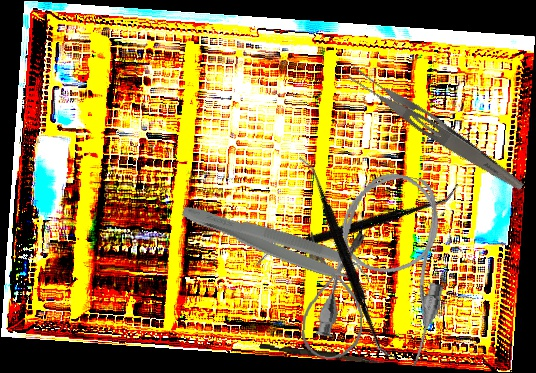Cannula: (313, 164, 465, 369), (300, 229, 369, 362)
Dressing Forceps: (343, 62, 530, 195)
Pusher: (258, 343, 386, 365)
Spatula Surgical: (235, 155, 460, 361), (253, 116, 461, 334)
Tissue Forceps: (176, 197, 376, 296)
